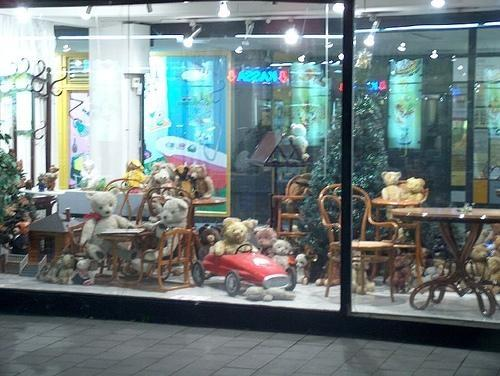car: (192, 244, 296, 297)
